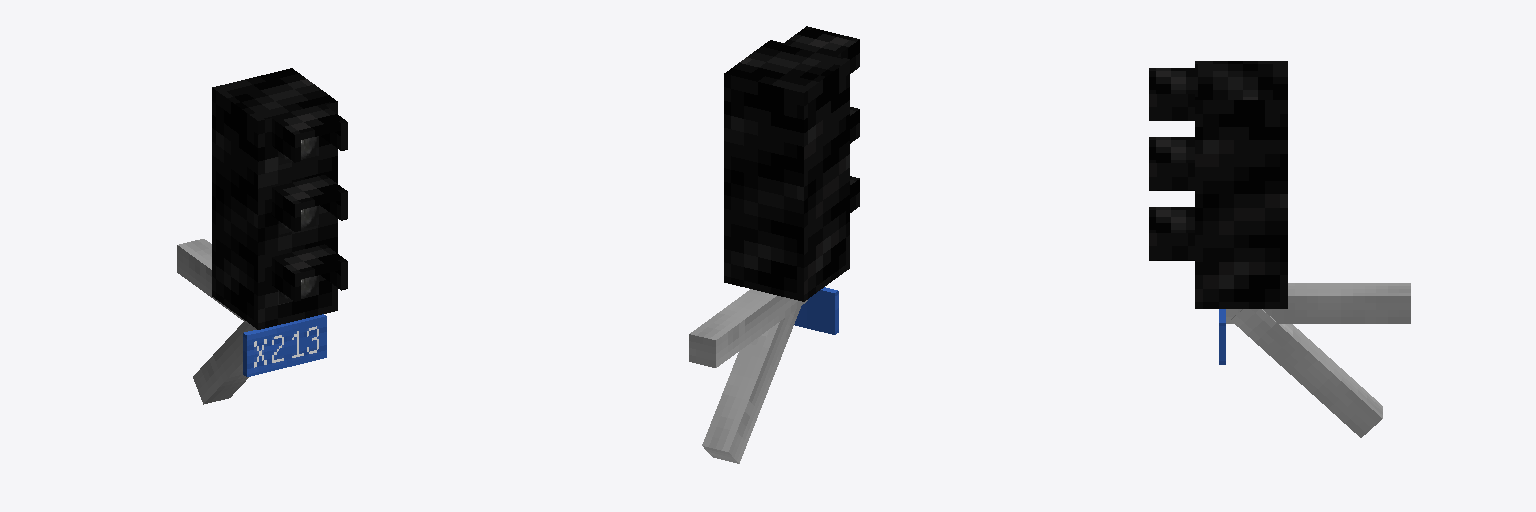
3 views of the same model, side by side, from view 1: azimuth 30°, elevation 25°; view 2: azimuth 150°, elevation 25°; view 3: azimuth 270°, elevation 25° (orthographic).
Parts seen in each view (by area): view 1: cube; view 2: cube; view 3: cube.
Boxes of the visible parts, <box> form: cube: <box>177,68,347,404</box>; cube: <box>689,26,859,463</box>; cube: <box>1149,61,1410,437</box>.
Bounding box in the file's own units: 0.375 × 1.57 × 1.06.
Materials: 1 (1 with a texture image).